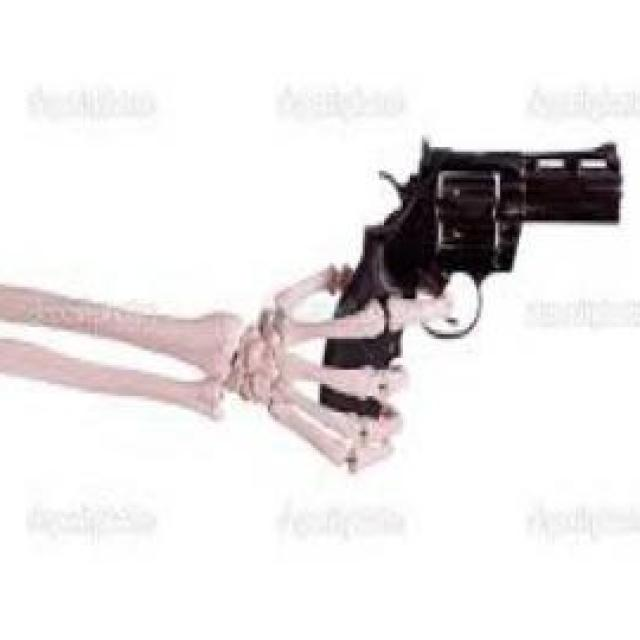pistol: (322, 135, 624, 437)
